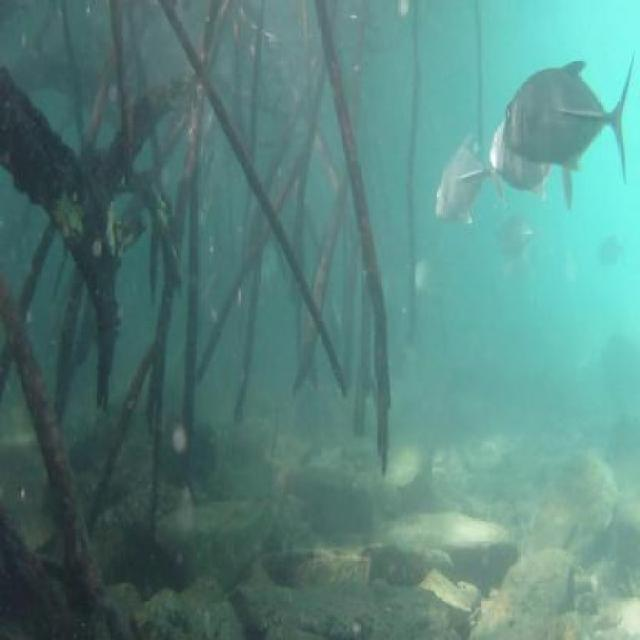Caranx_sexfasciatus_juvenile: (506, 45, 634, 190), (491, 91, 594, 226), (433, 123, 496, 240), (486, 245, 548, 297), (496, 210, 550, 258)
